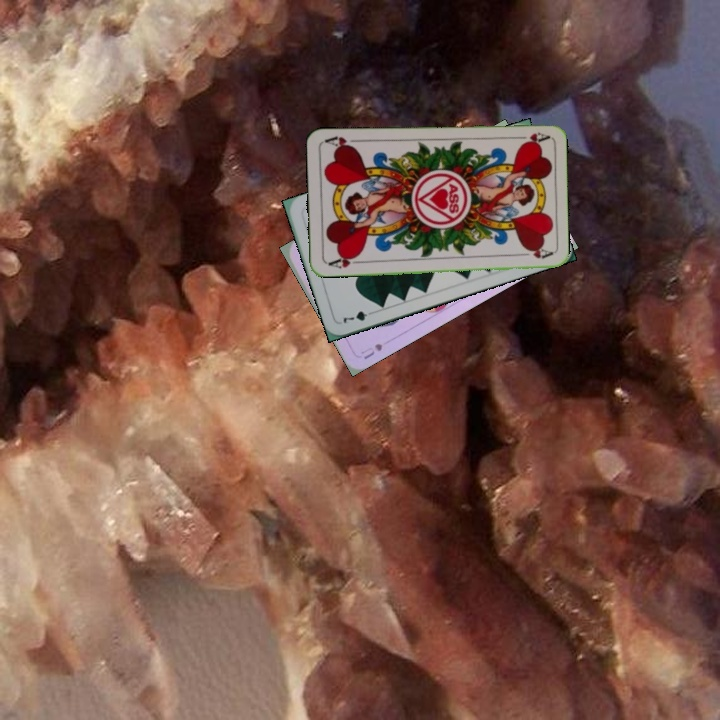G7: (338, 306, 378, 326)
HA: (324, 252, 364, 271), (510, 128, 550, 147)
SU: (357, 339, 385, 362)
